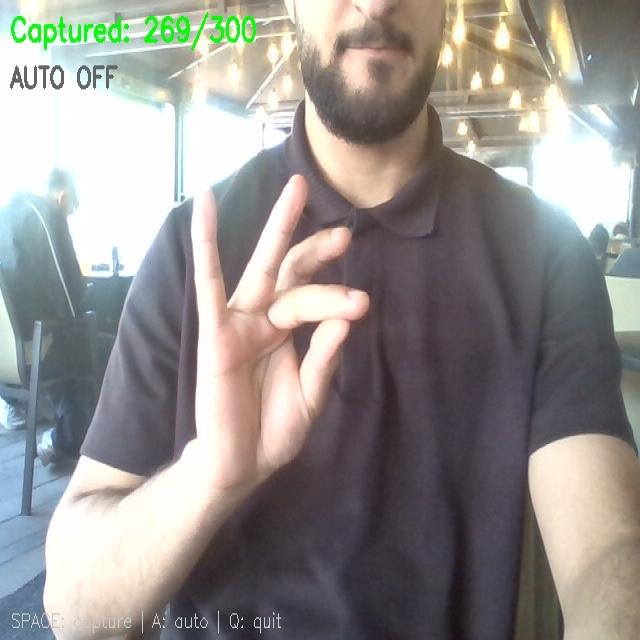Hand: (192, 176, 368, 490)
